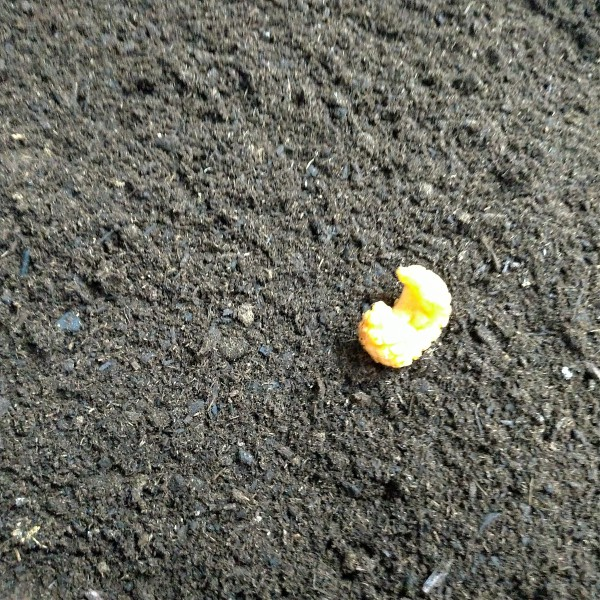eggs: (355, 260, 455, 366)
